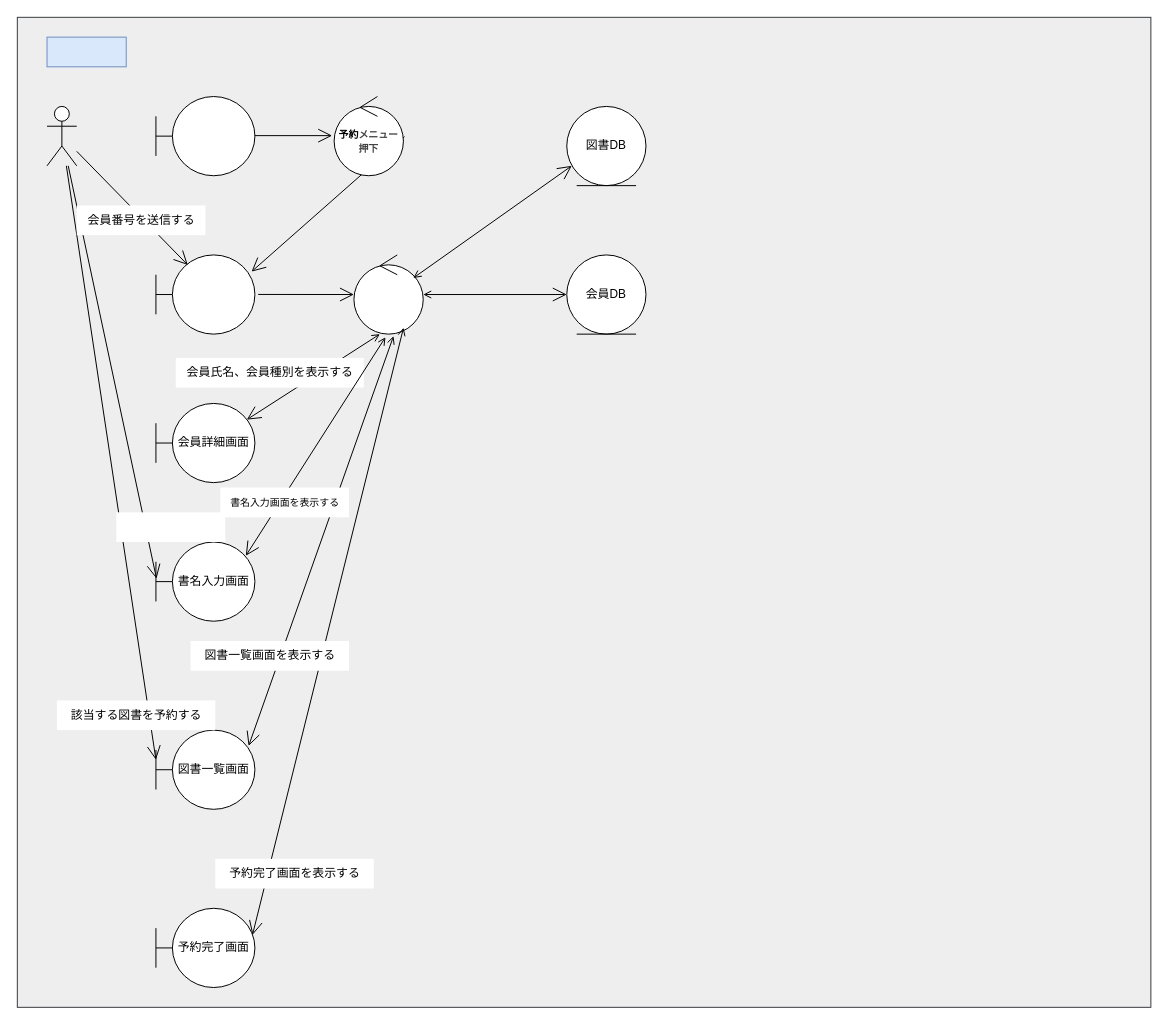
This 1168x1025 diagram has some shape labels left out. The shapes that lost their labels are listed below. From the top down, each one's centre as x and y in pixels, then its label:
At point 86,51: "図書の予約".
At point 61,135: "事務職員".
At point 205,136: "メニュー 画面".
At point 205,294: "図書予約 画面".
At point 388,294: "予約処理".
At point 170,527: "書名を入力する".
